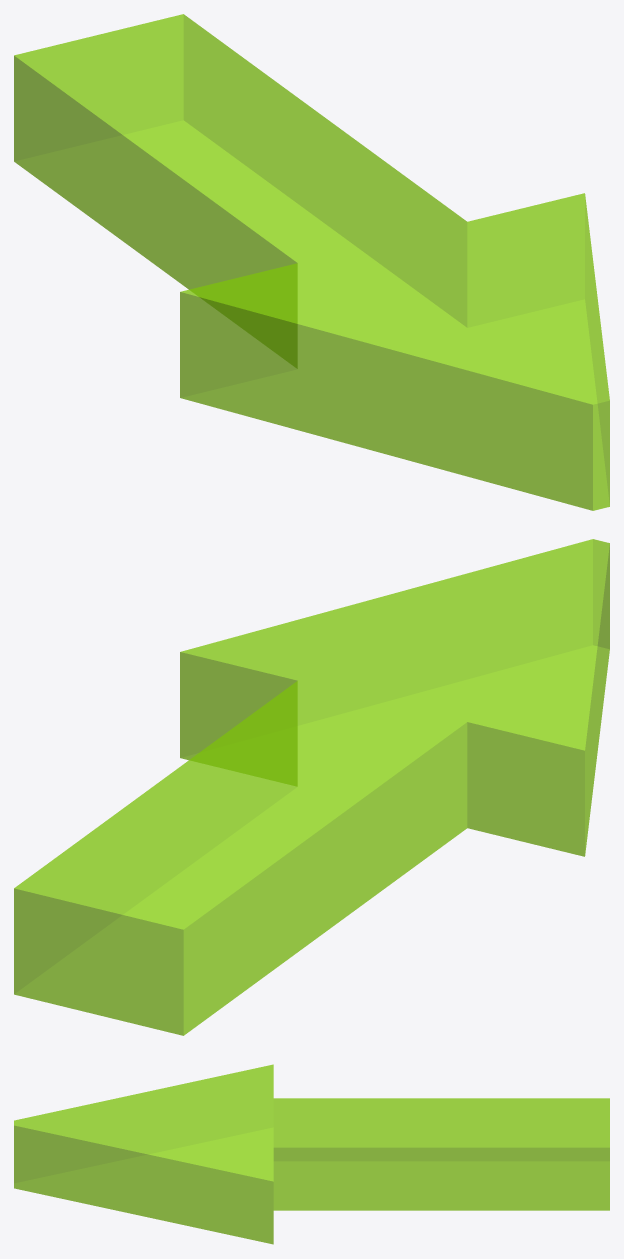
The model's file is arrow_fix.fbx.
The picture shows the model from 3 angles, top to bottom: view 1: azimuth 30°, elevation 25°; view 2: azimuth 150°, elevation 25°; view 3: azimuth 270°, elevation 25°; orthographic projection. The views are drawn at different scales.
Visible parts, largest first — view 1: pCube1; view 2: pCube1; view 3: pCube1.
Part boxes in pixels (x1=…): pCube1: x1=14, y1=14, x2=609, y2=510; pCube1: x1=14, y1=539, x2=609, y2=1035; pCube1: x1=14, y1=1064, x2=609, y2=1244.
Bounding box in the file's own units: 3.85 × 0.964 × 8.27.
